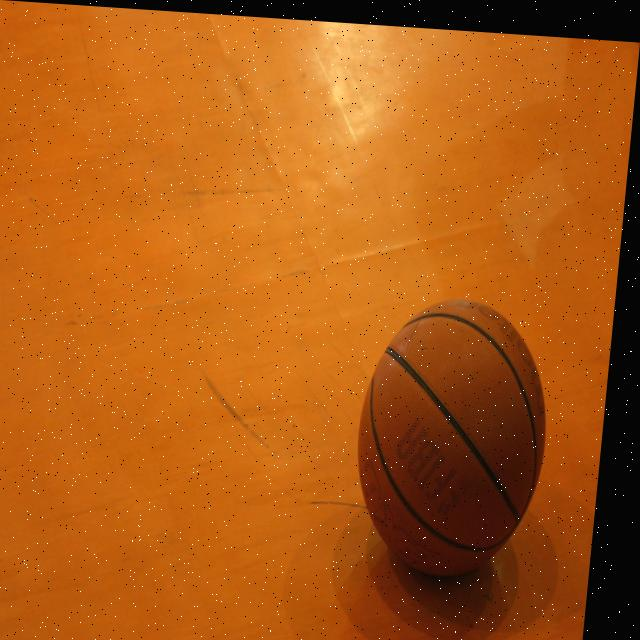Basketball: (345, 296, 557, 585)
